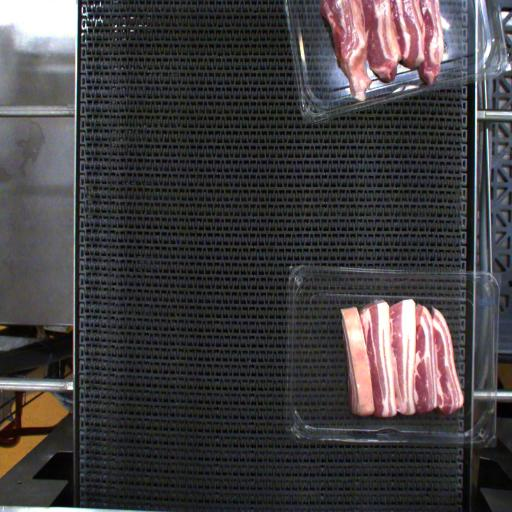twisted-meat: (337, 295, 378, 419)
